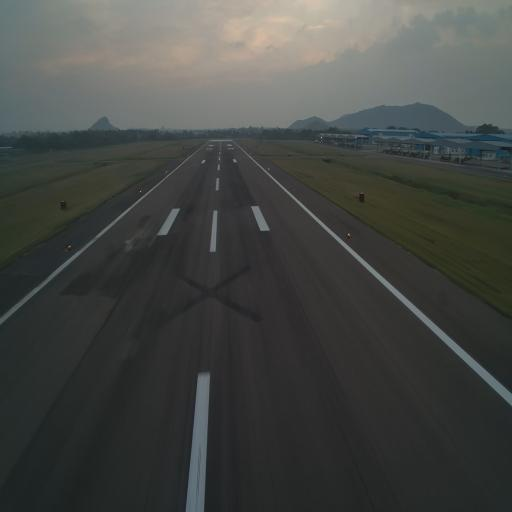off: (289, 185, 292, 191)
on: (67, 242, 72, 253), (346, 231, 351, 238), (139, 188, 142, 194)
